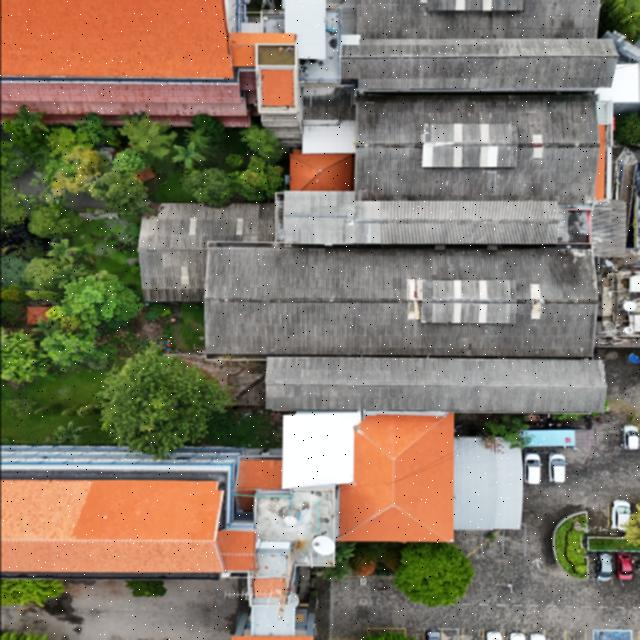Tree: (96, 352, 224, 458), (392, 542, 474, 606), (182, 166, 228, 208), (37, 332, 92, 367), (230, 167, 280, 200)
